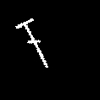double_crochet: (16, 19, 47, 66)
